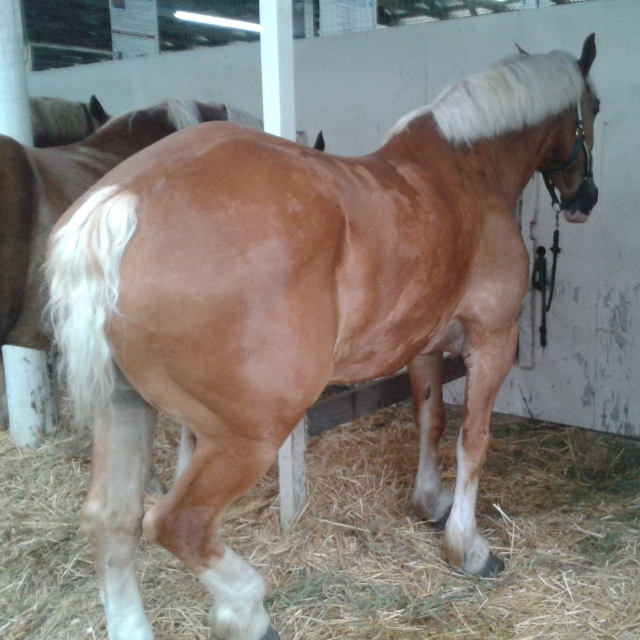Horse: (0, 32, 600, 640)
